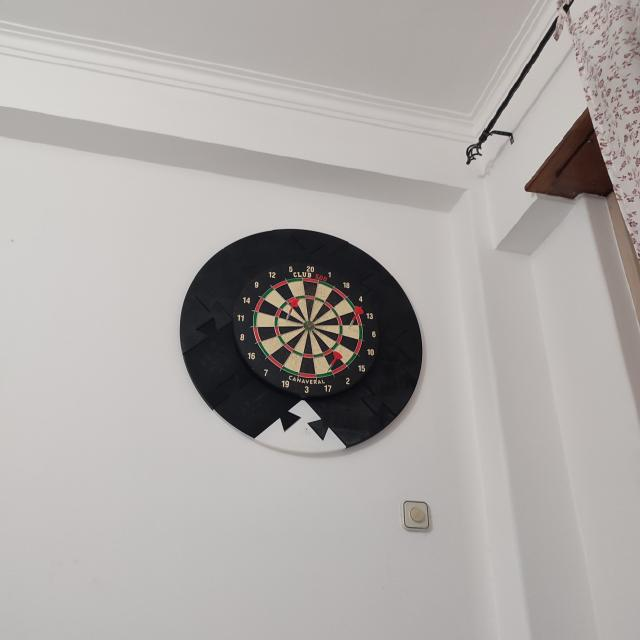dart: (348, 306, 364, 329), (327, 350, 343, 372), (327, 350, 343, 372), (286, 297, 300, 321), (286, 297, 300, 321), (349, 306, 363, 329)
